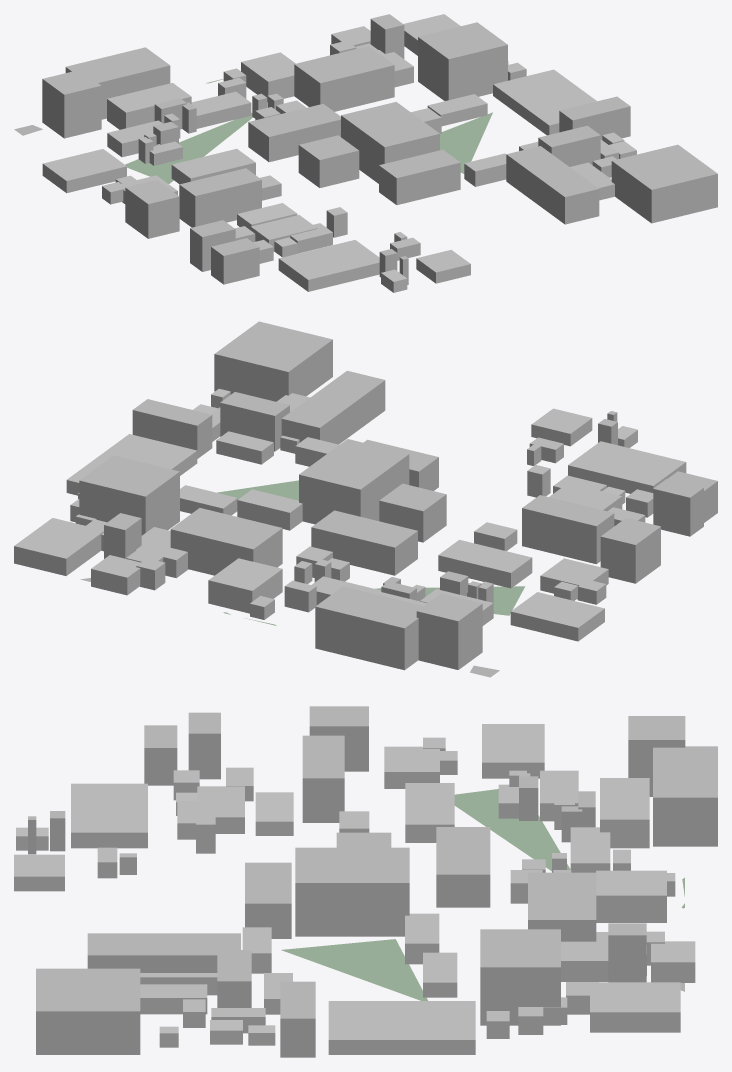
Rendered from 130_90_mid.glb.
3 views of the same model, one above another, from view 1: azimuth 30°, elevation 25°; view 2: azimuth 150°, elevation 25°; view 3: azimuth 270°, elevation 25° (orthographic). The views are drawn at different scales.
Bounding box in the file's own units: 552 × 55.02 × 528.
